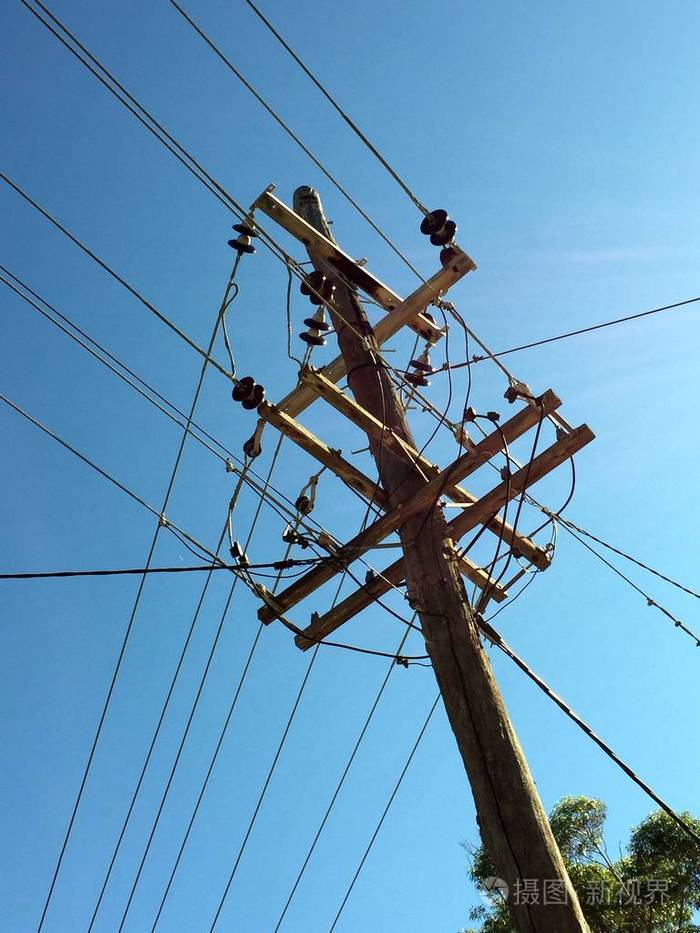insulator: (228, 374, 267, 415), (420, 205, 458, 247), (299, 270, 340, 305), (402, 355, 438, 389), (295, 316, 333, 347), (226, 223, 262, 255)
